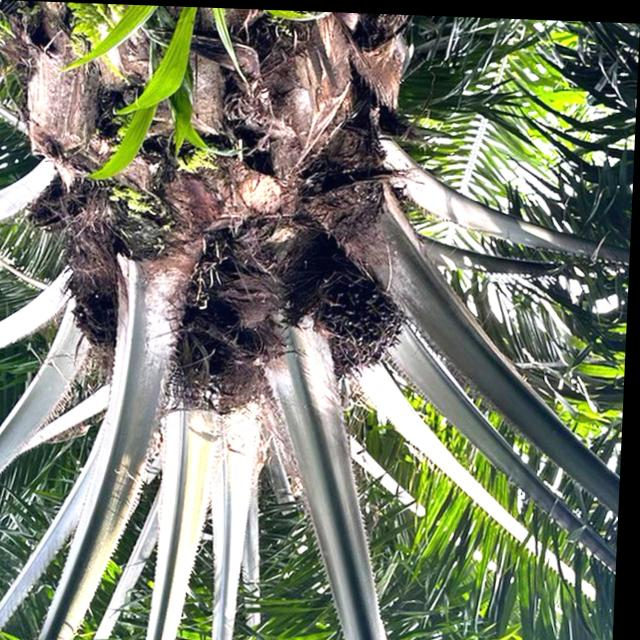almost: (294, 251, 420, 383)
